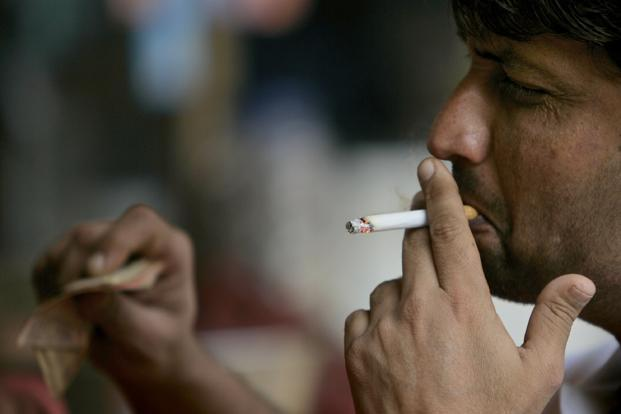cigarette: (332, 199, 487, 236)
